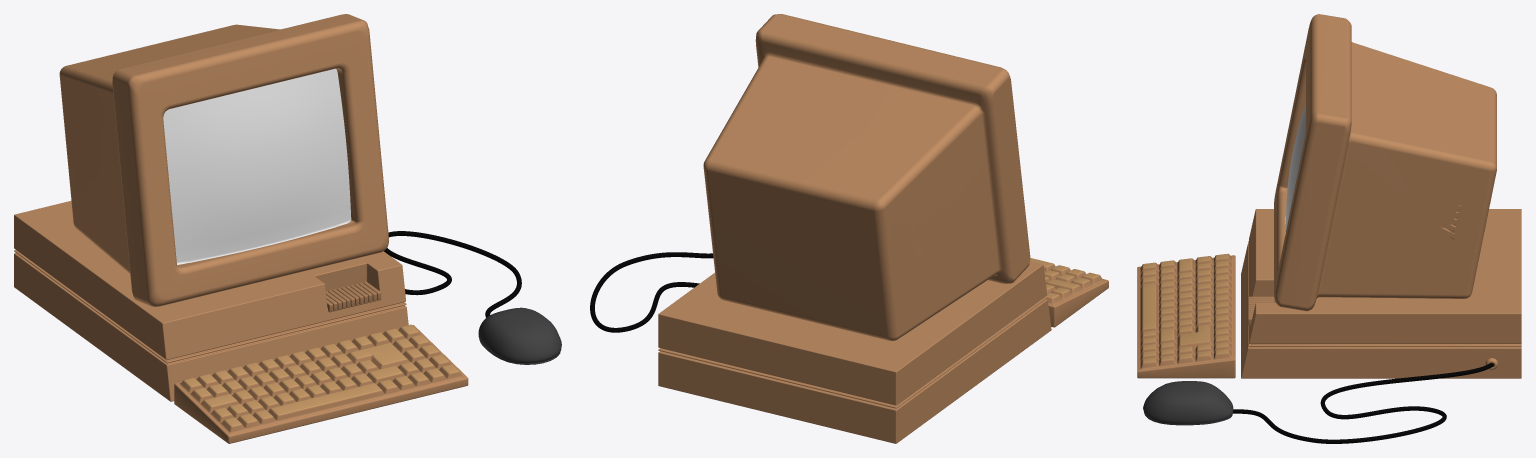
Rendered from komputer.fbx.
3 renders of one model, left to right at view 1: azimuth 30°, elevation 25°; view 2: azimuth 150°, elevation 25°; view 3: azimuth 270°, elevation 25°, orthographic. The views are drawn at different scales.
Visible parts, largest first — view 1: Cube.002; view 2: Cube.002; view 3: Cube.002.
Boxes of the visible parts, x1,y1,x2,y2 form: Cube.002: [14, 14, 561, 443]; Cube.002: [590, 14, 1108, 443]; Cube.002: [1137, 14, 1521, 443].
Bounding box in the file's own units: 327 × 233 × 310.
